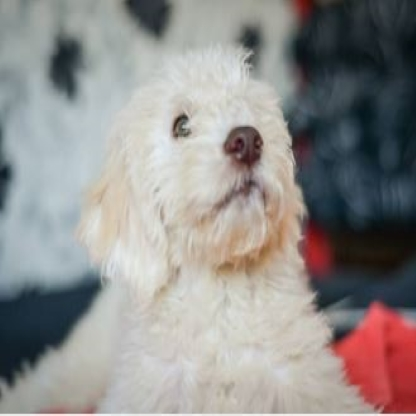maltese: (37, 46, 368, 416)
